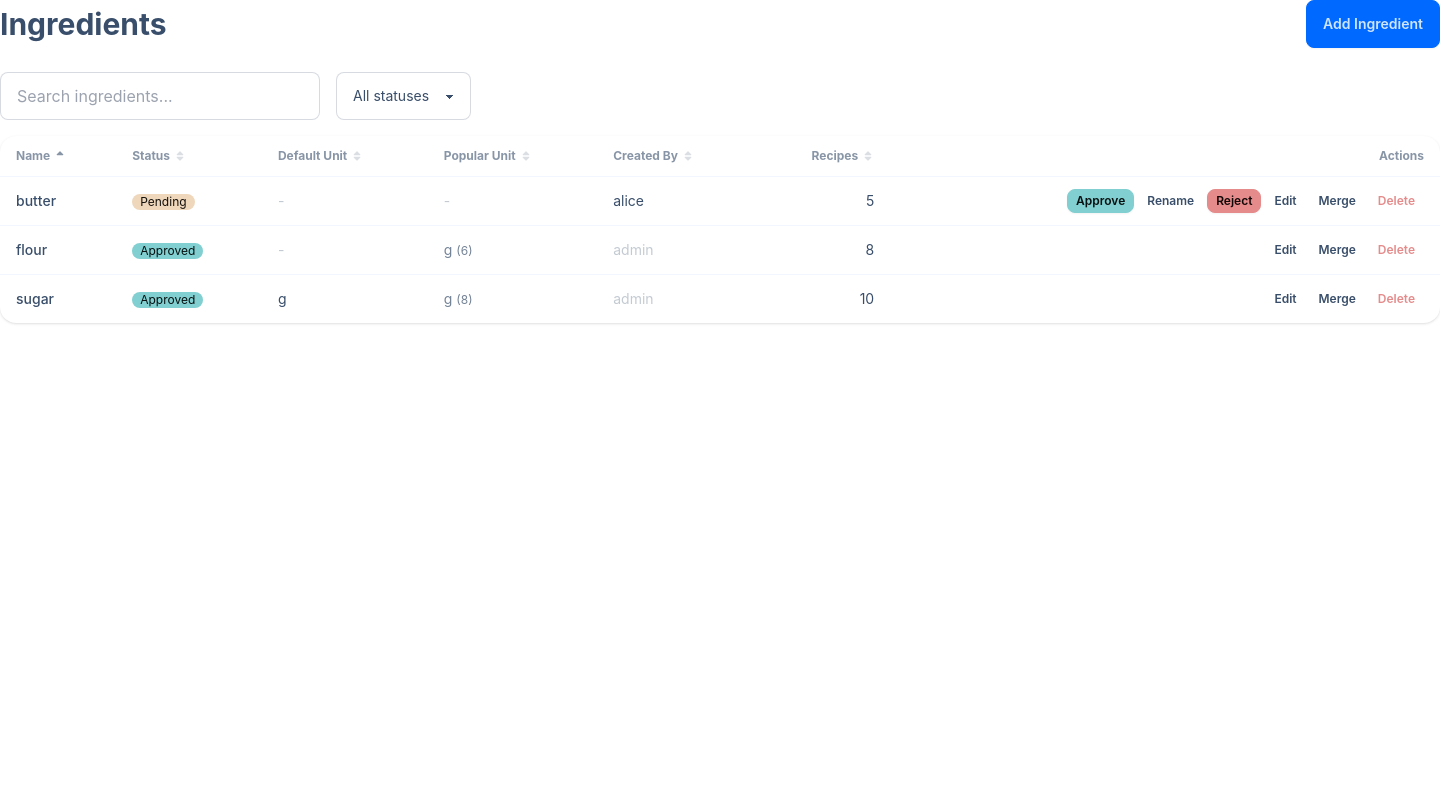
Test: AdminIngredientsPage › should open approve with rename modal
expect the text "butter" is shown: met, box [0, 176, 116, 226]
Click the button "Rename" at (1171, 201), box [1138, 189, 1203, 213]
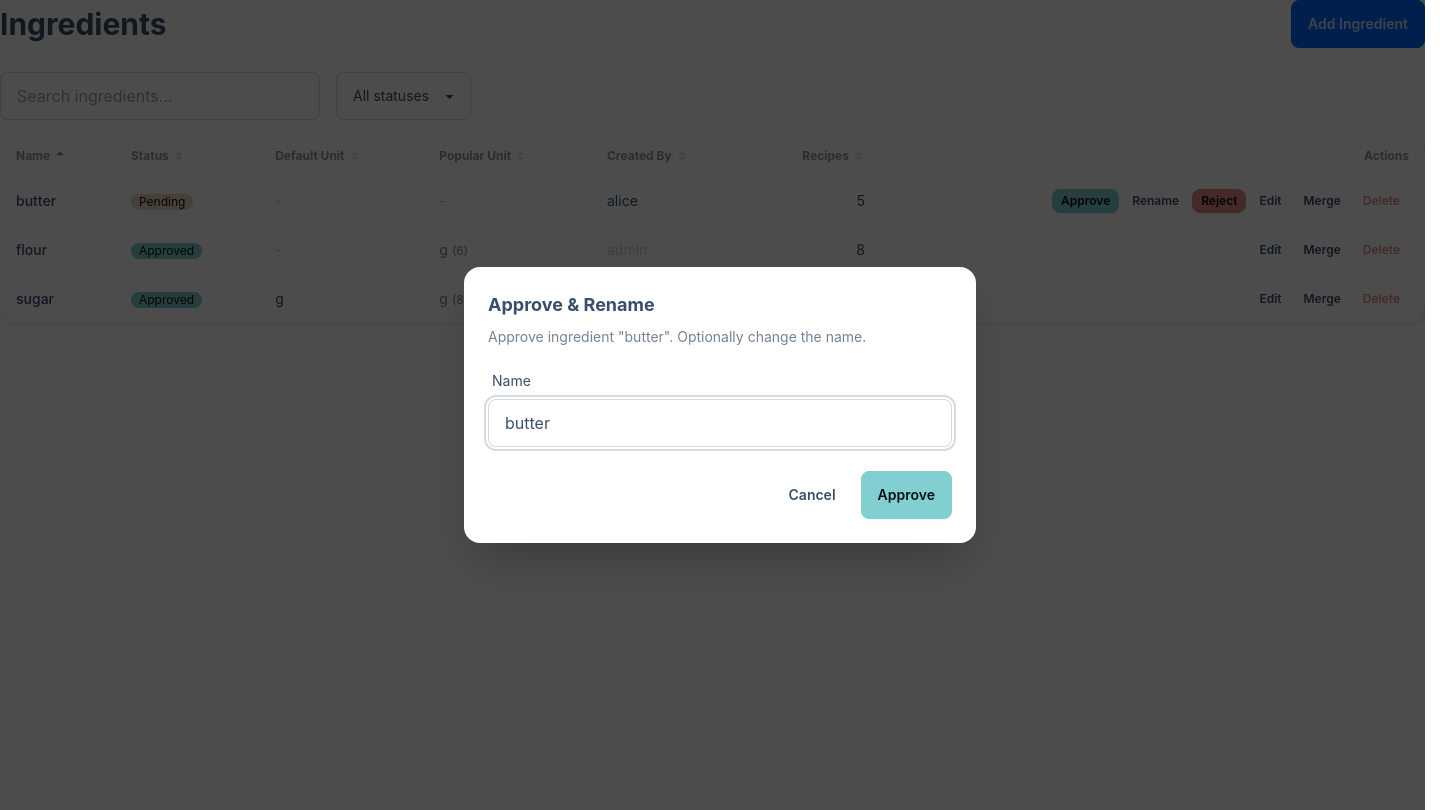
expect the heading "Approve & Rename" is shown: met, box [488, 294, 655, 315]
